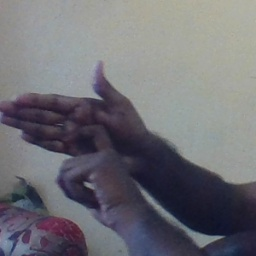R: (5, 55, 136, 208)
